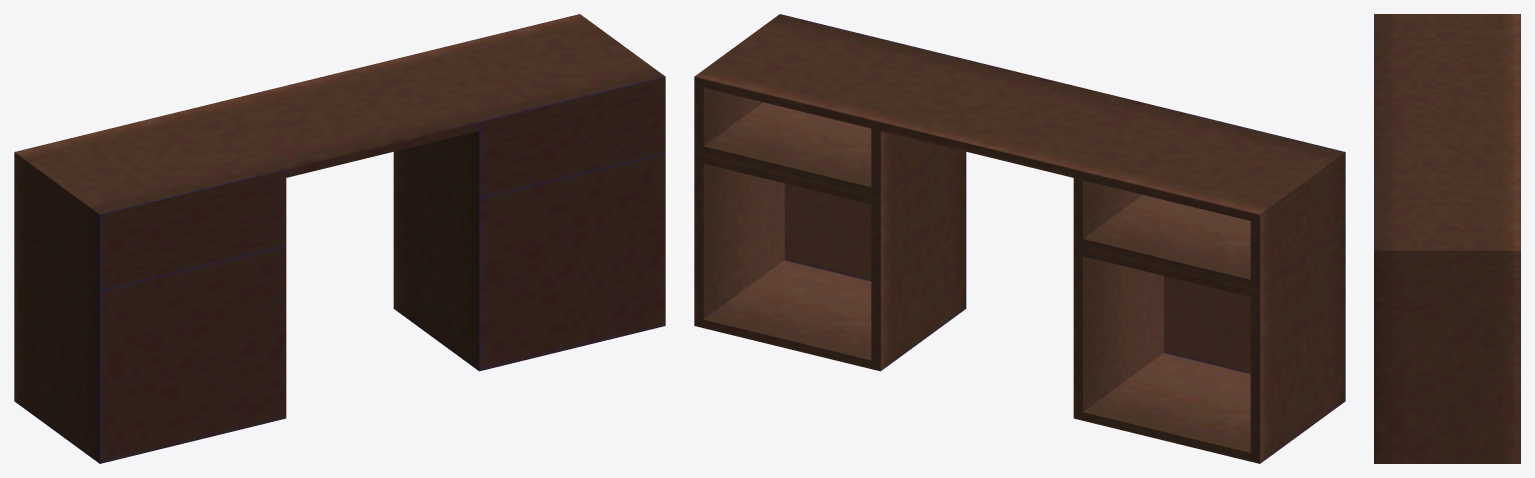
Rendered from desk.fbx.
The picture shows the model from 3 angles, left to right: view 1: azimuth 30°, elevation 25°; view 2: azimuth 150°, elevation 25°; view 3: azimuth 270°, elevation 25°; orthographic projection. The views are drawn at different scales.
Parts seen in each view (by area): view 1: Desk; view 2: Desk; view 3: Desk.
Boxes of the visible parts, x1,y1,x2,y2 form: Desk: (14, 14, 665, 463); Desk: (694, 14, 1345, 463); Desk: (1374, 14, 1520, 463).
Size of the model in its own units: 2.71 by 0.7122 by 1.14.
Materials: 1 (1 with a texture image).
